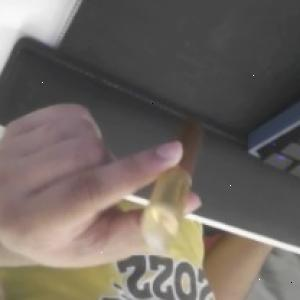Golden-E-Ciggirate: (133, 114, 210, 253)
